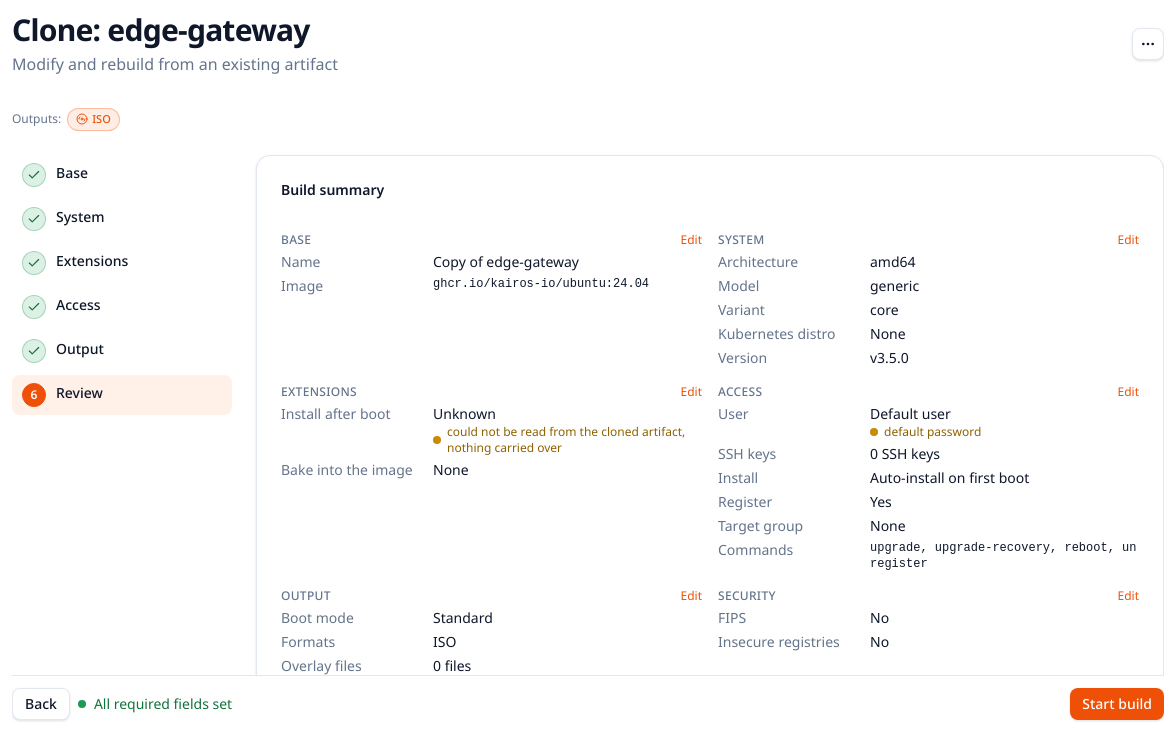
ArtifactBuilder: cloning carries the extension configuration › keeps the failure on the Extensions step, where the empty list is shown
This screenshot has width=1176, height=732.
Step 1. Click the button "Extensions" → (122, 262), box [12,242,232,282]
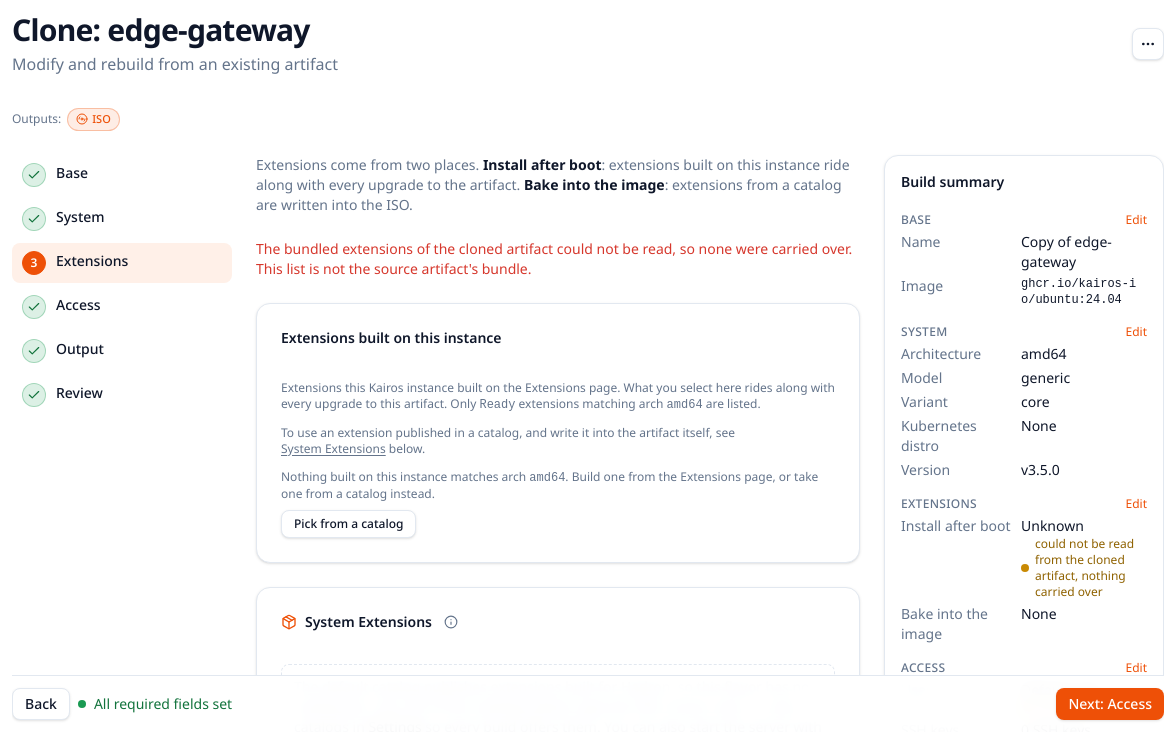
Expected: the text "bundled extensions of the cloned artifact could not be read" is shown, [256,238,852,278]
